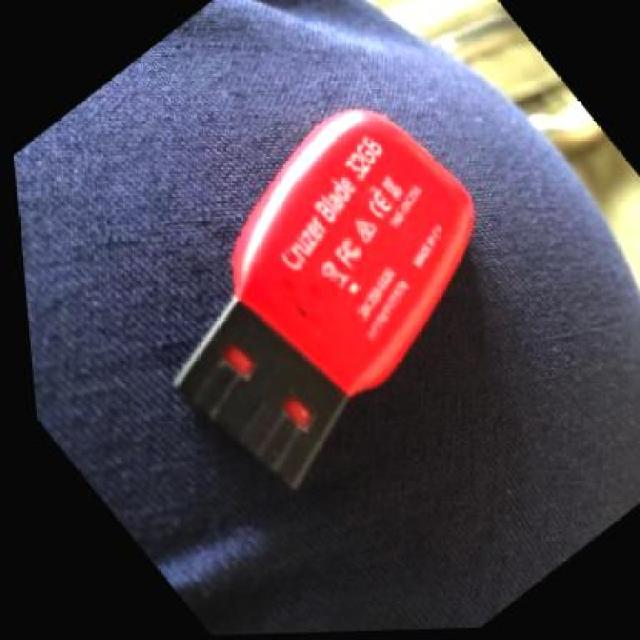Flashdisk: (41, 44, 604, 570)
